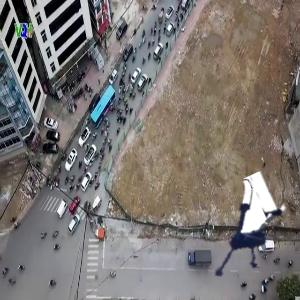drone: (188, 186, 298, 296)
